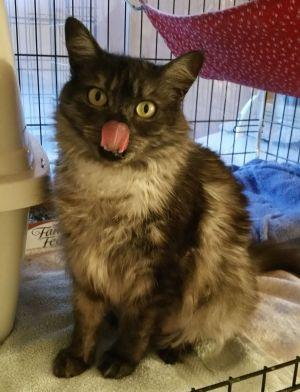persian: (55, 16, 213, 175)
